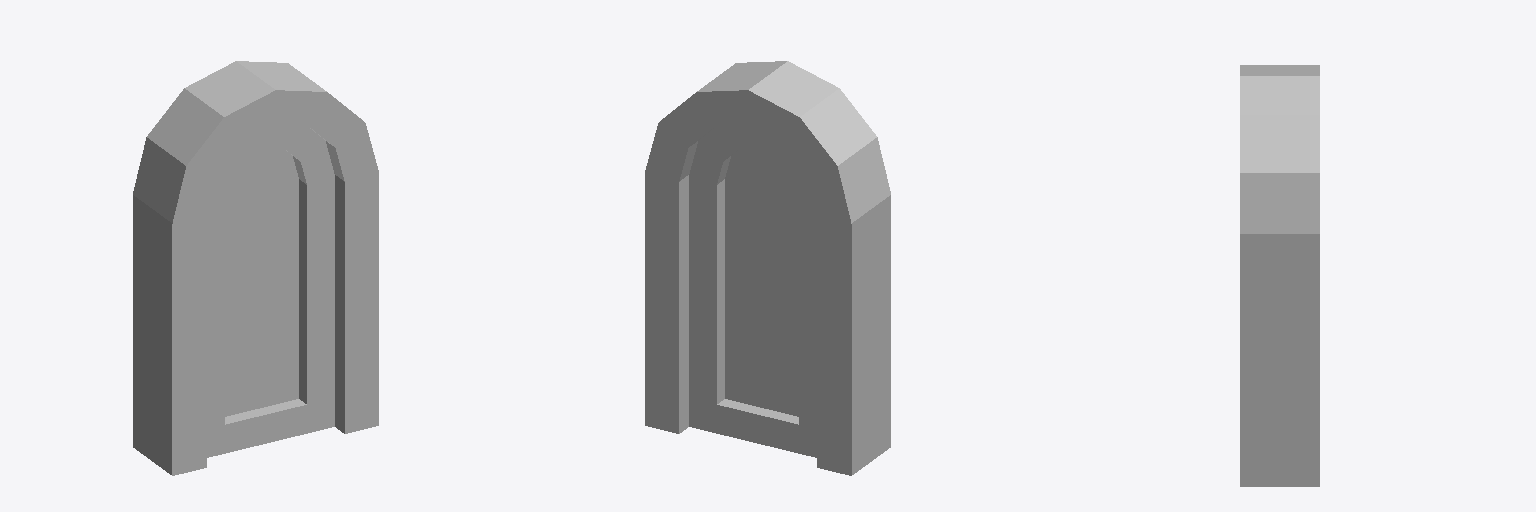
Rendered from doorClosed.obj.
3 views of the same model, side by side, from view 1: azimuth 30°, elevation 25°; view 2: azimuth 150°, elevation 25°; view 3: azimuth 270°, elevation 25° (orthographic).
Visible parts, largest first — view 1: doorClosed; view 2: doorClosed; view 3: doorClosed.
Boxes of the visible parts, x1=… form: doorClosed: x1=133, y1=61, x2=378, y2=475; doorClosed: x1=645, y1=61, x2=890, y2=475; doorClosed: x1=1240, y1=65, x2=1319, y2=486.
Bounding box in the file's own units: 0.6 × 1 × 0.2.